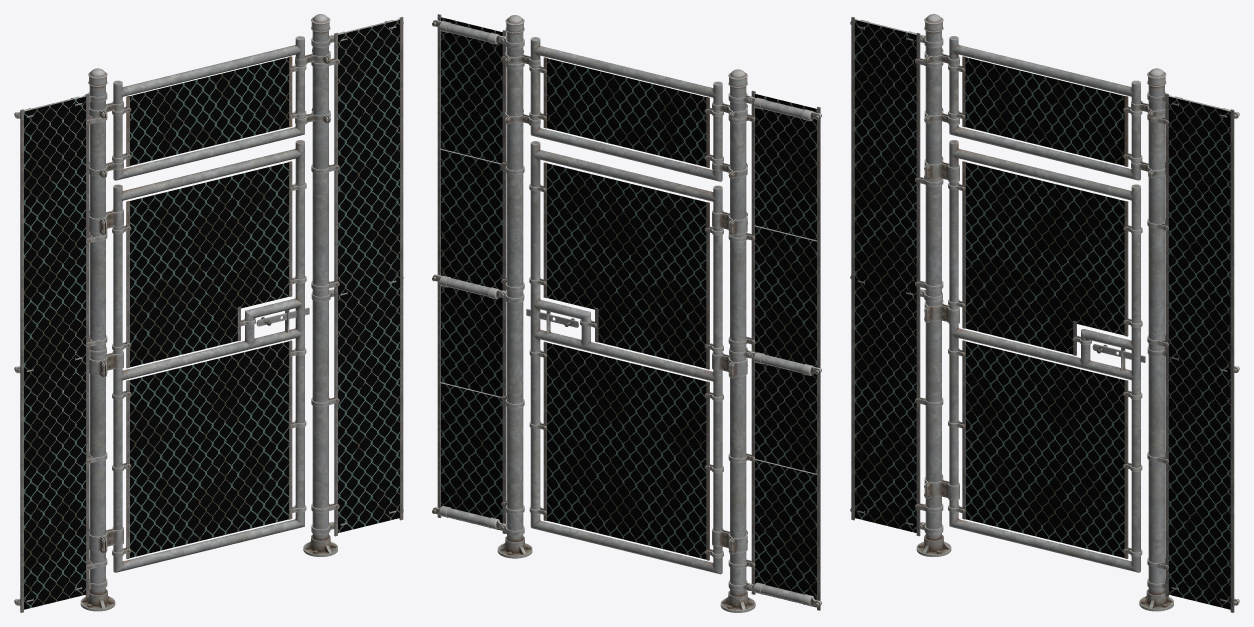
The model's file is fence-gate.glb.
3 views of the same model, side by side, from view 1: azimuth 30°, elevation 25°; view 2: azimuth 150°, elevation 25°; view 3: azimuth 330°, elevation 25° (orthographic).
Parts seen in each view (by area): view 1: modular_chainlink_fence_door_frame, modular_chainlink_fence_door_gate; view 2: modular_chainlink_fence_door_frame, modular_chainlink_fence_door_gate; view 3: modular_chainlink_fence_door_frame, modular_chainlink_fence_door_gate.
Part boxes in pixels (bbox=[...]): modular_chainlink_fence_door_frame: bbox=[14, 14, 403, 612]; modular_chainlink_fence_door_gate: bbox=[112, 140, 306, 572]; modular_chainlink_fence_door_frame: bbox=[432, 14, 821, 612]; modular_chainlink_fence_door_gate: bbox=[529, 141, 723, 574]; modular_chainlink_fence_door_frame: bbox=[850, 14, 1239, 612]; modular_chainlink_fence_door_gate: bbox=[948, 140, 1142, 572].
Bounding box in the file's own units: 1.91 × 2.52 × 0.1481.
2 materials, 2 textured.
